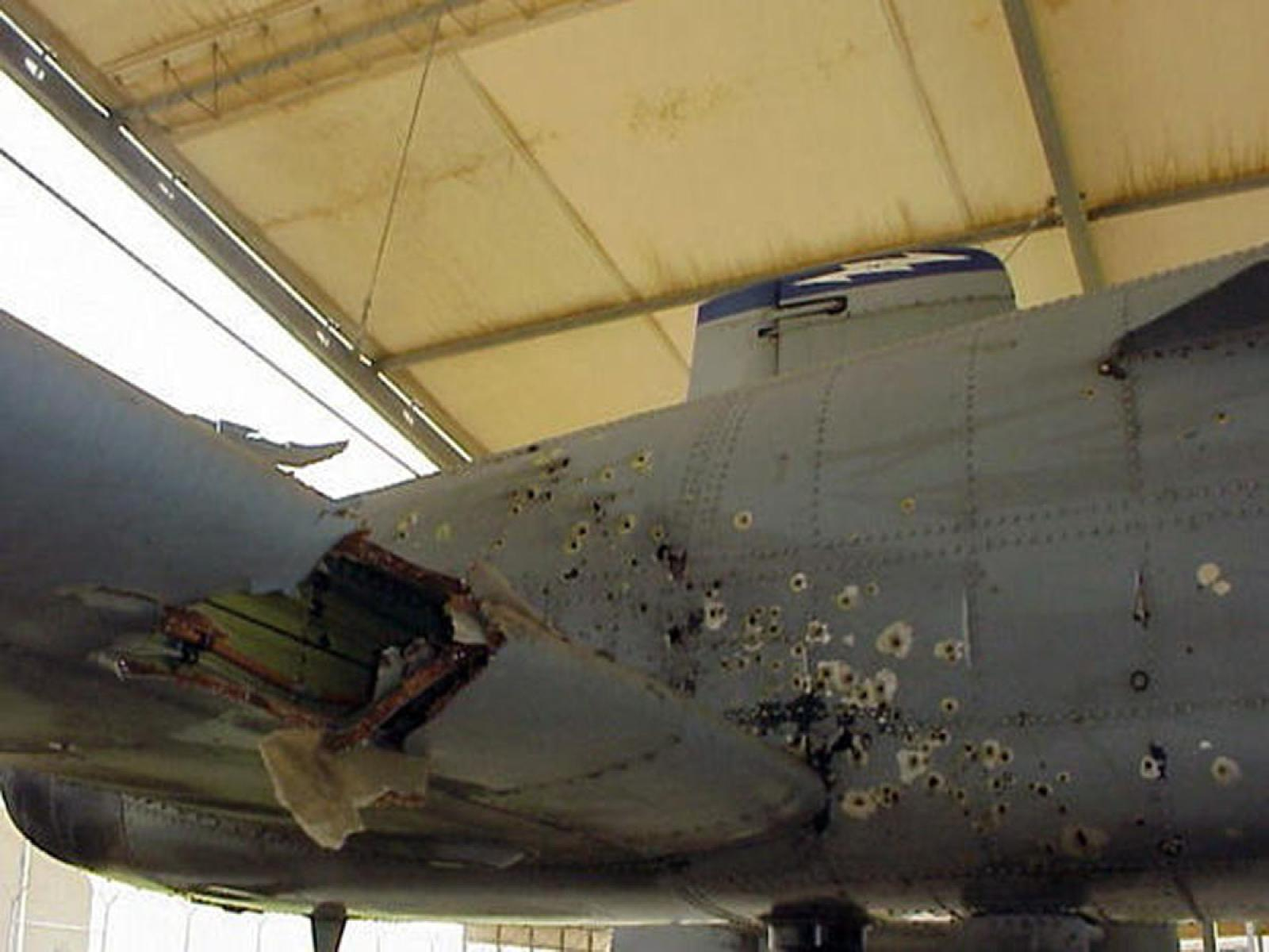Fuselage_damage: (876, 621, 913, 659), (1195, 563, 1231, 596), (867, 668, 898, 706), (1061, 826, 1104, 853), (841, 789, 879, 819), (897, 749, 930, 783), (817, 660, 853, 691), (979, 740, 1013, 770), (657, 544, 686, 577), (1141, 743, 1166, 781), (1210, 756, 1240, 784), (703, 597, 727, 631), (508, 488, 536, 512), (934, 641, 963, 662), (835, 584, 860, 607), (569, 524, 588, 549), (630, 450, 651, 470), (788, 572, 808, 591), (666, 625, 682, 646), (734, 512, 751, 530), (941, 700, 958, 714), (621, 514, 633, 531)
Skin_Cover: (258, 728, 428, 850)
Wing_damage: (108, 532, 505, 758), (258, 728, 428, 850), (214, 422, 349, 469)
